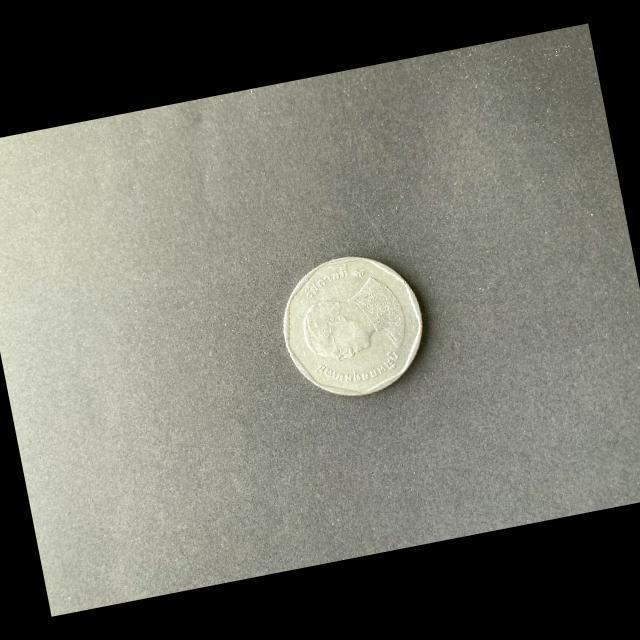5 Bath: (279, 255, 429, 403)
